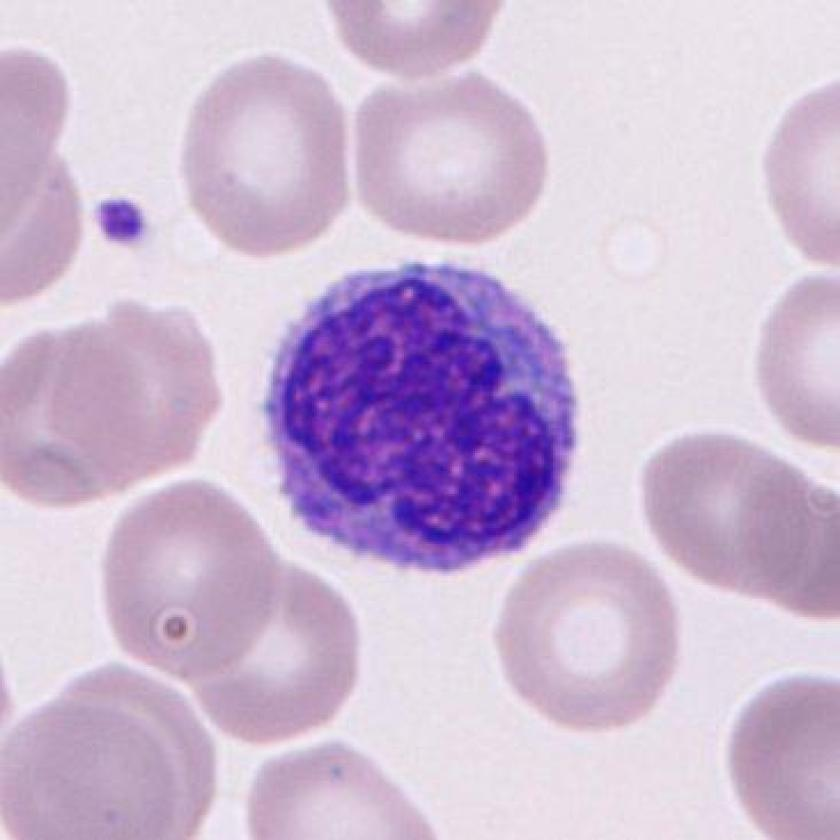monocyte: (247, 245, 612, 598)
